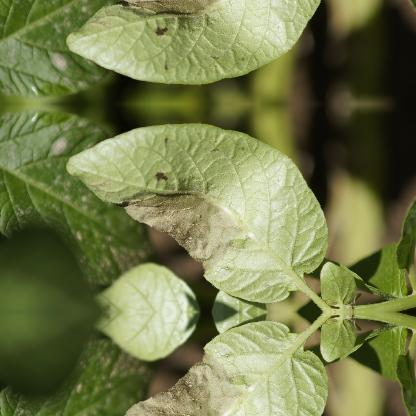Late-Blight: (74, 126, 314, 294), (73, 329, 314, 416), (73, 0, 314, 82)
